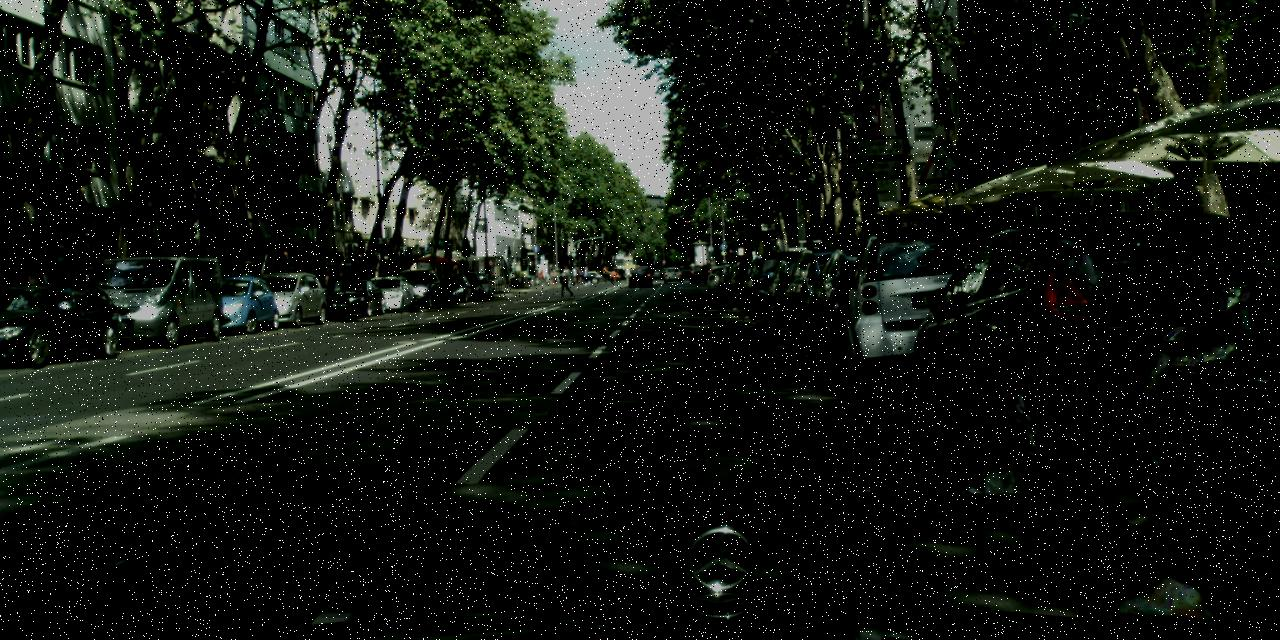ped: (323, 268, 355, 284), (560, 265, 572, 294)
